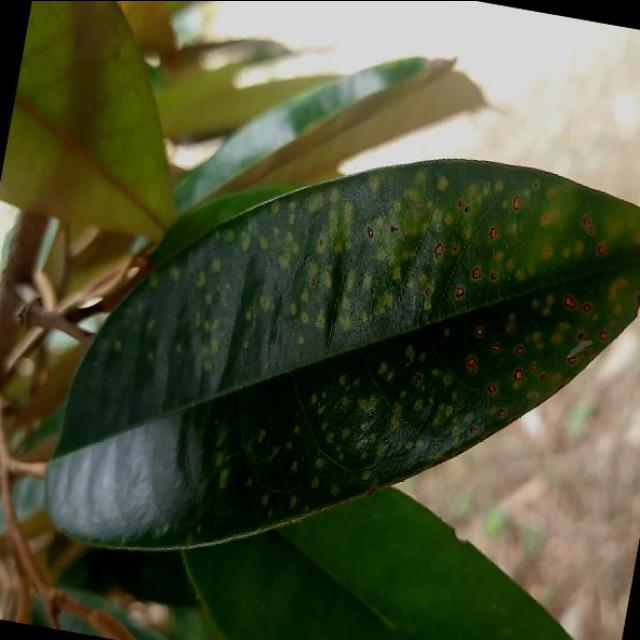Leaf Spot: (20, 78, 640, 640)
